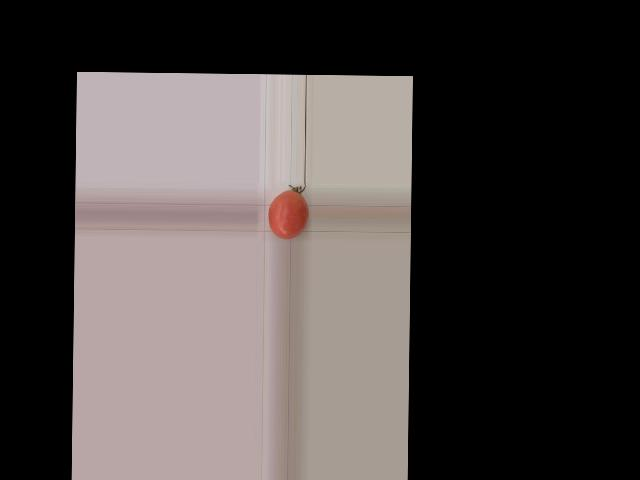tomato: (268, 189, 308, 239)
